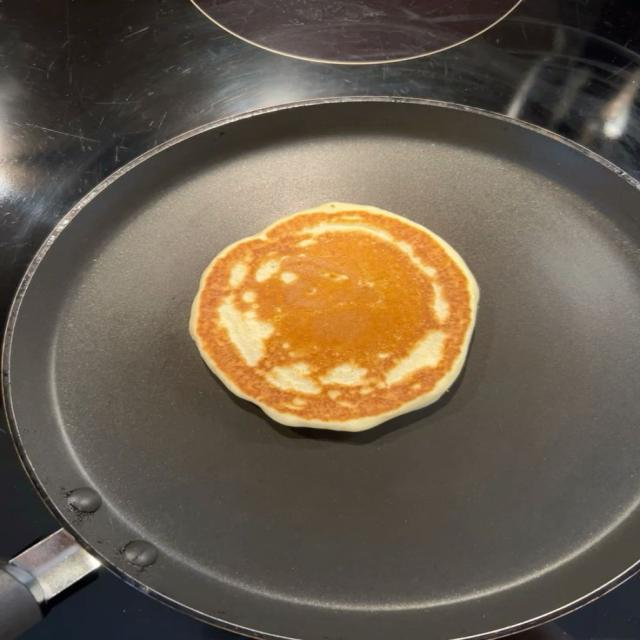pancake: (190, 203, 478, 431)
